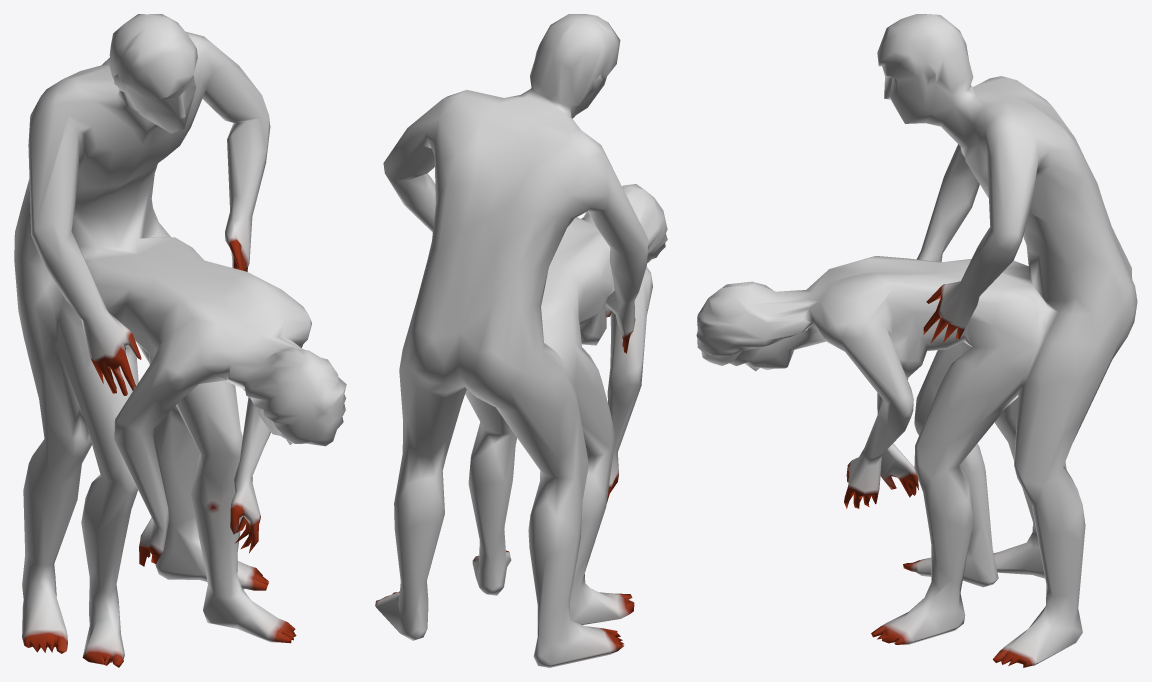
File: position8_low.fbx
3 views of the same model, side by side, from view 1: azimuth 30°, elevation 25°; view 2: azimuth 150°, elevation 25°; view 3: azimuth 270°, elevation 25° (orthographic). The views are drawn at different scales.
Parts seen in each view (by area): view 1: stand_doggy; view 2: stand_doggy; view 3: stand_doggy.
Part boxes in pixels (x1,y1,x2,y2): stand_doggy: (14,14,346,667); stand_doggy: (375,14,667,667); stand_doggy: (696,14,1137,667).
Bounding box in the file's own units: 0.2758 × 0.6457 × 0.4437.
